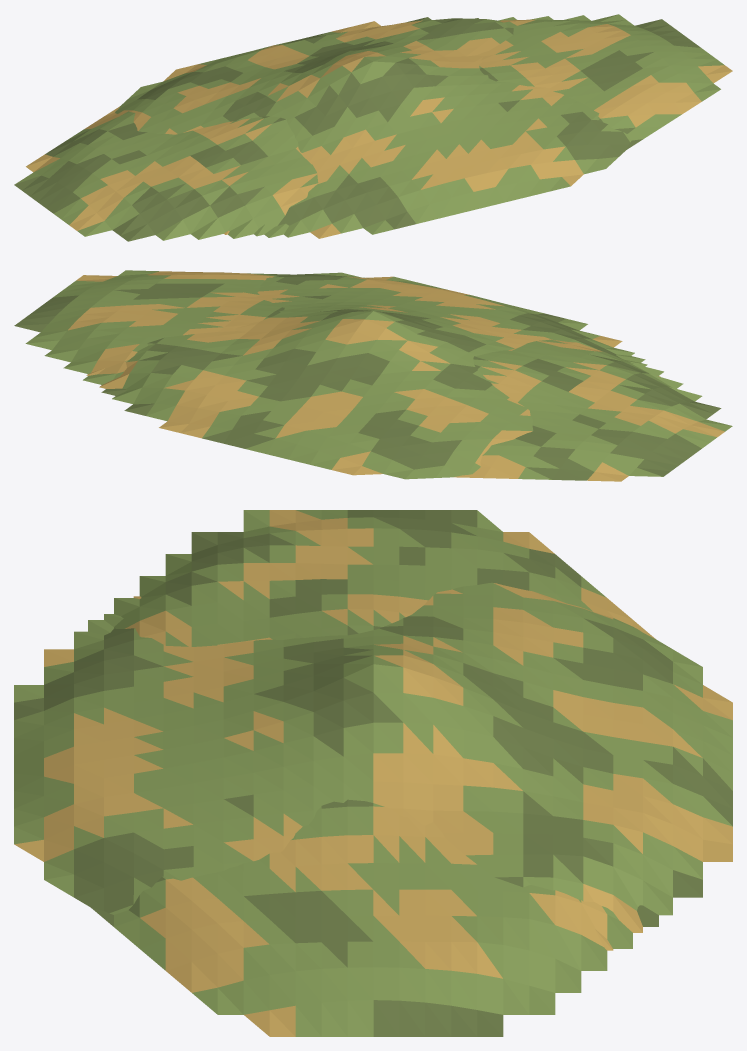
Rendered from Kit.fbx.
3 renders of one model, top to bottom at view 1: azimuth 30°, elevation 25°; view 2: azimuth 150°, elevation 25°; view 3: azimuth 270°, elevation 25°, orthographic. The views are drawn at different scales.
Parts seen in each view (by area): view 1: HillA_OT_Grass, HillB_OT_Grass, HillA_OT_Field, HillA_OT_Olive, HillB_OT_Field, HillB_OT_Olive; view 2: HillA_OT_Grass, HillB_OT_Grass, HillA_OT_Field, HillA_OT_Olive, HillB_OT_Field, HillB_OT_Olive; view 3: HillA_OT_Grass, HillB_OT_Grass, HillA_OT_Field, HillA_OT_Olive, HillB_OT_Field, HillB_OT_Olive.
Part boxes in pixels (x1,y1,x2,y2): HillA_OT_Grass: (115,19,631,237); HillB_OT_Grass: (14,14,724,240); HillA_OT_Field: (119,20,583,238); HillA_OT_Olive: (137,17,630,229); HillB_OT_Field: (26,19,732,230); HillB_OT_Olive: (14,18,700,241); HillA_OT_Grass: (112,272,647,479); HillB_OT_Grass: (25,270,732,479); HillA_OT_Field: (86,276,660,475); HillA_OT_Olive: (124,274,620,469); HillB_OT_Field: (68,271,724,481); HillB_OT_Olive: (14,274,721,480); HillA_OT_Grass: (14,582,732,915); HillB_OT_Grass: (88,510,632,1036); HillA_OT_Field: (14,583,732,950); HillA_OT_Olive: (14,616,732,913); HillB_OT_Field: (125,510,655,1036); HillB_OT_Olive: (91,510,658,1036).
Size of the model in its own units: 1040 by 101 by 600.
